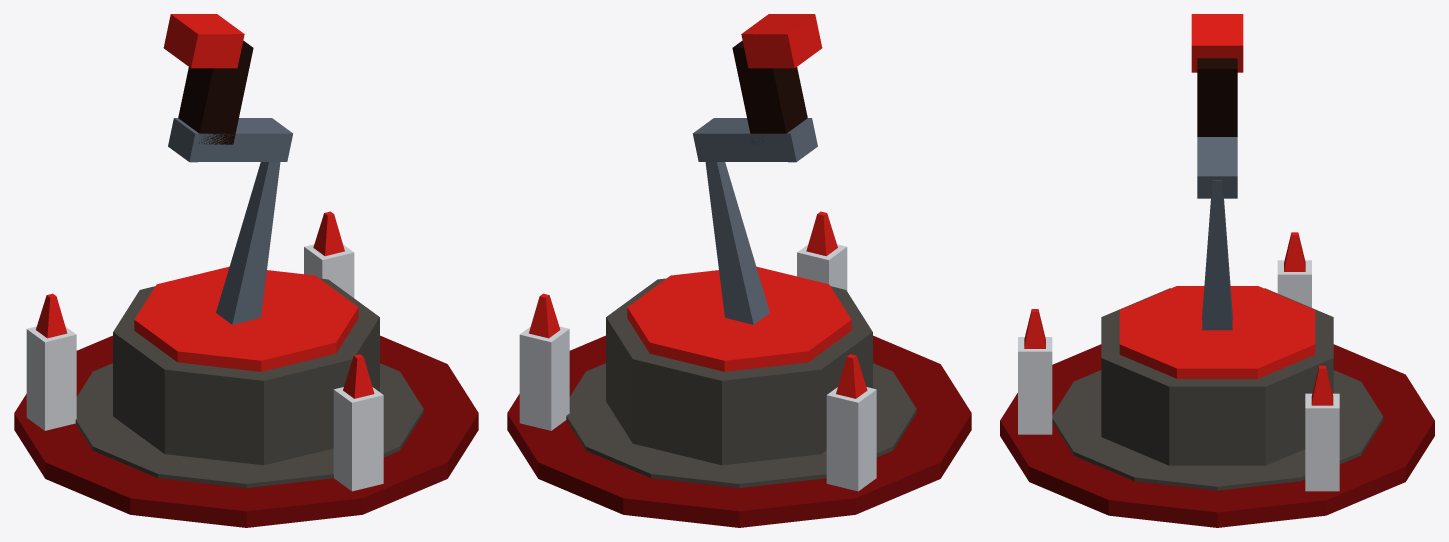
The model's file is RitualSangre_low.fbx.
The picture shows the model from 3 angles, left to right: view 1: azimuth 30°, elevation 25°; view 2: azimuth 150°, elevation 25°; view 3: azimuth 270°, elevation 25°; orthographic projection. The views are drawn at different scales.
Parts seen in each view (by area): view 1: RitualSangre_low; view 2: RitualSangre_low; view 3: RitualSangre_low.
Part boxes in pixels (x1=…): RitualSangre_low: x1=14, y1=14, x2=478, y2=527; RitualSangre_low: x1=507, y1=14, x2=971, y2=527; RitualSangre_low: x1=1000, y1=14, x2=1434, y2=527.
Bounding box in the file's own units: 76 × 75.94 × 76.
